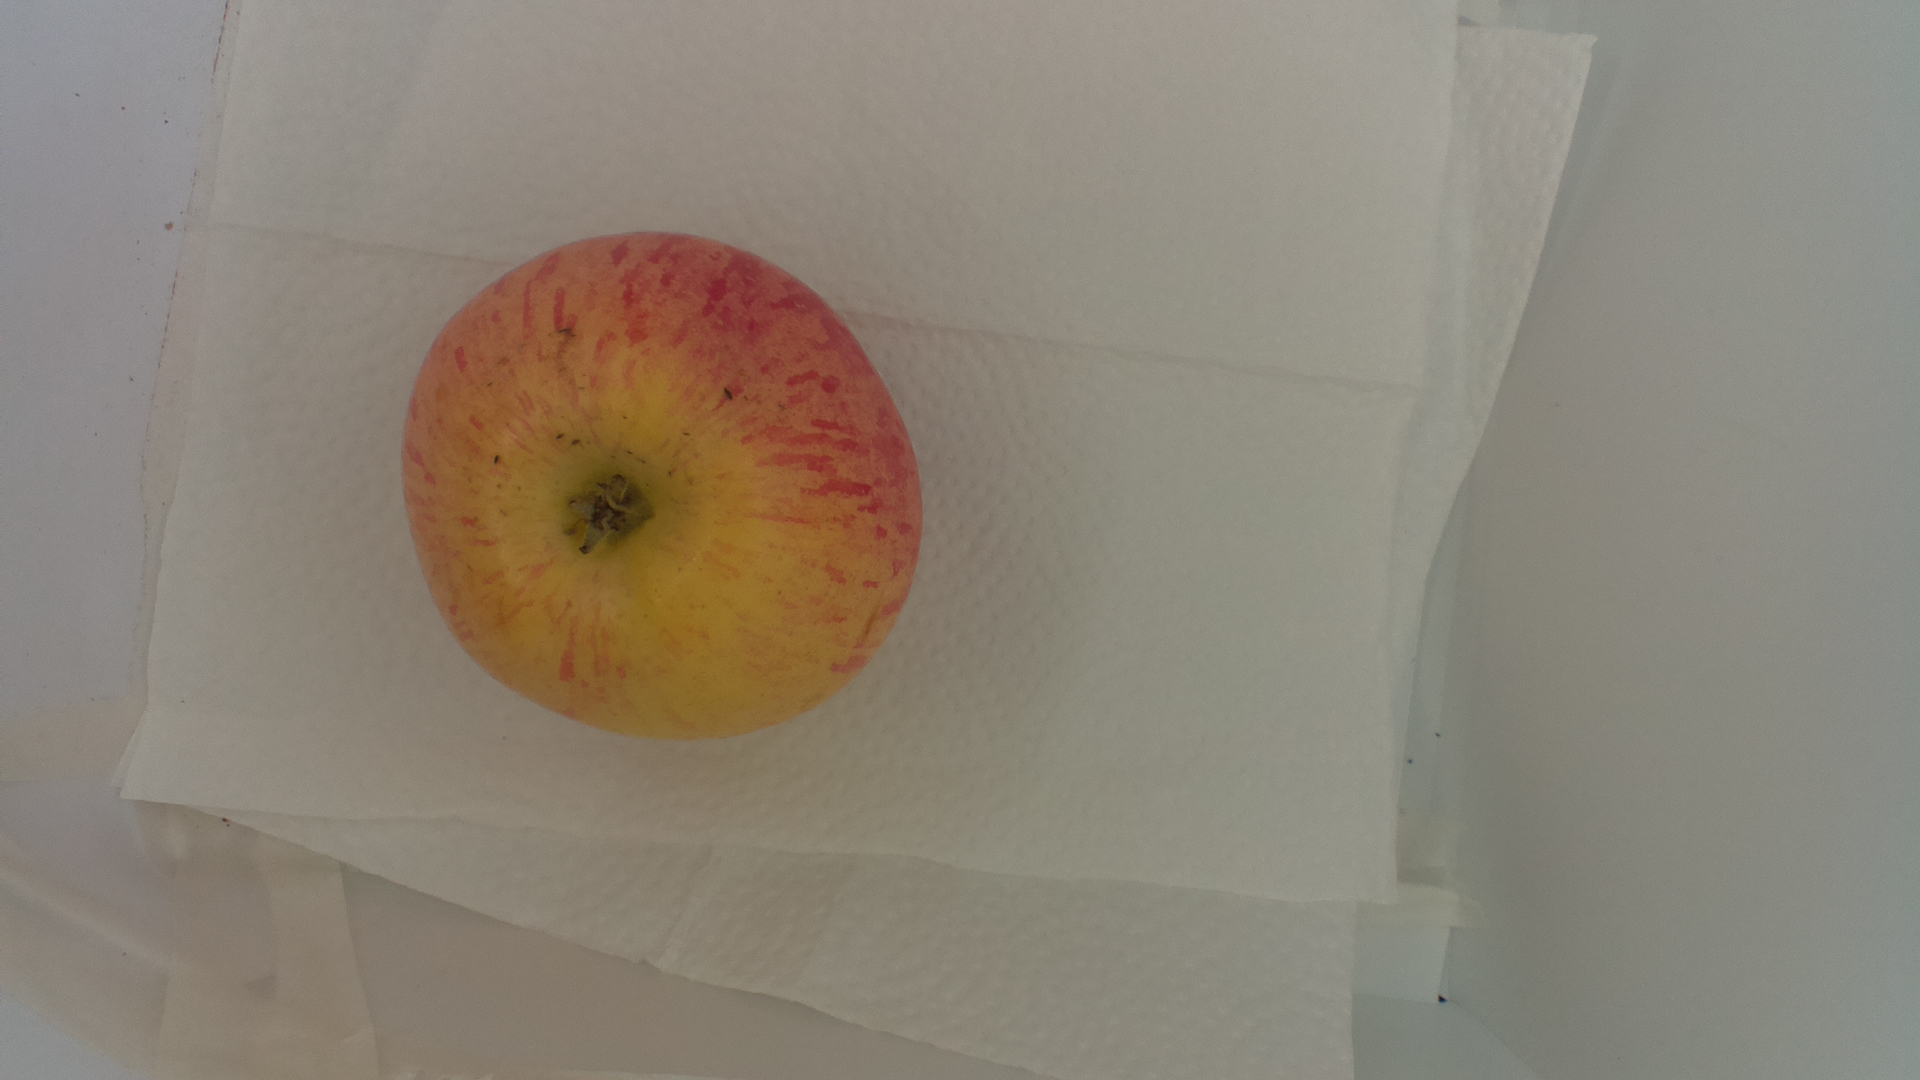fruit: (396, 229, 930, 746)
